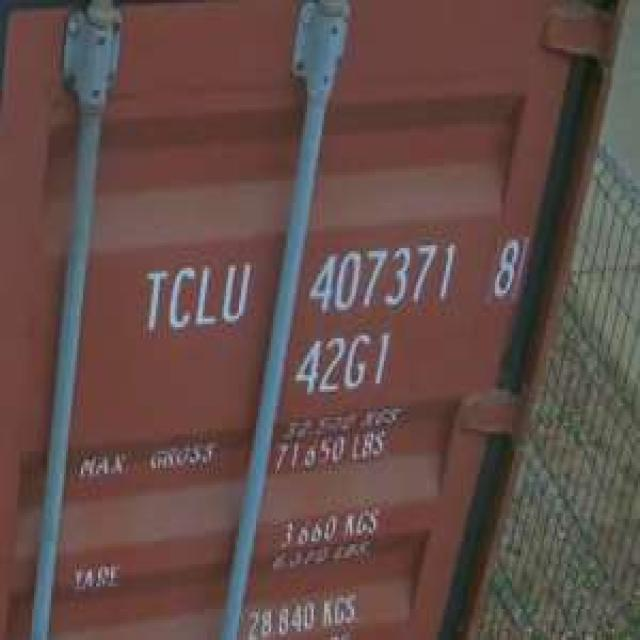dv: (486, 226, 527, 304)
owner: (136, 254, 254, 338)
serial: (303, 234, 461, 319)
size: (290, 327, 395, 398)
